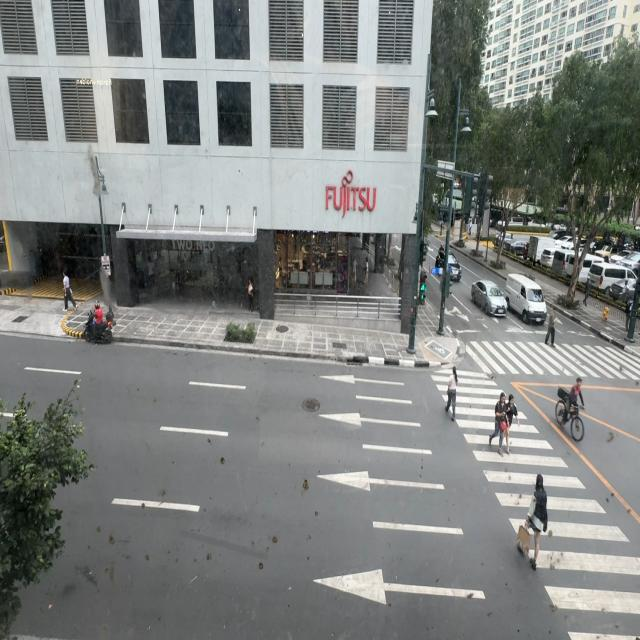crossing: (522, 474, 547, 570), (489, 390, 509, 455), (502, 393, 519, 454), (547, 308, 559, 350)
jaywalking: (443, 364, 455, 416)
